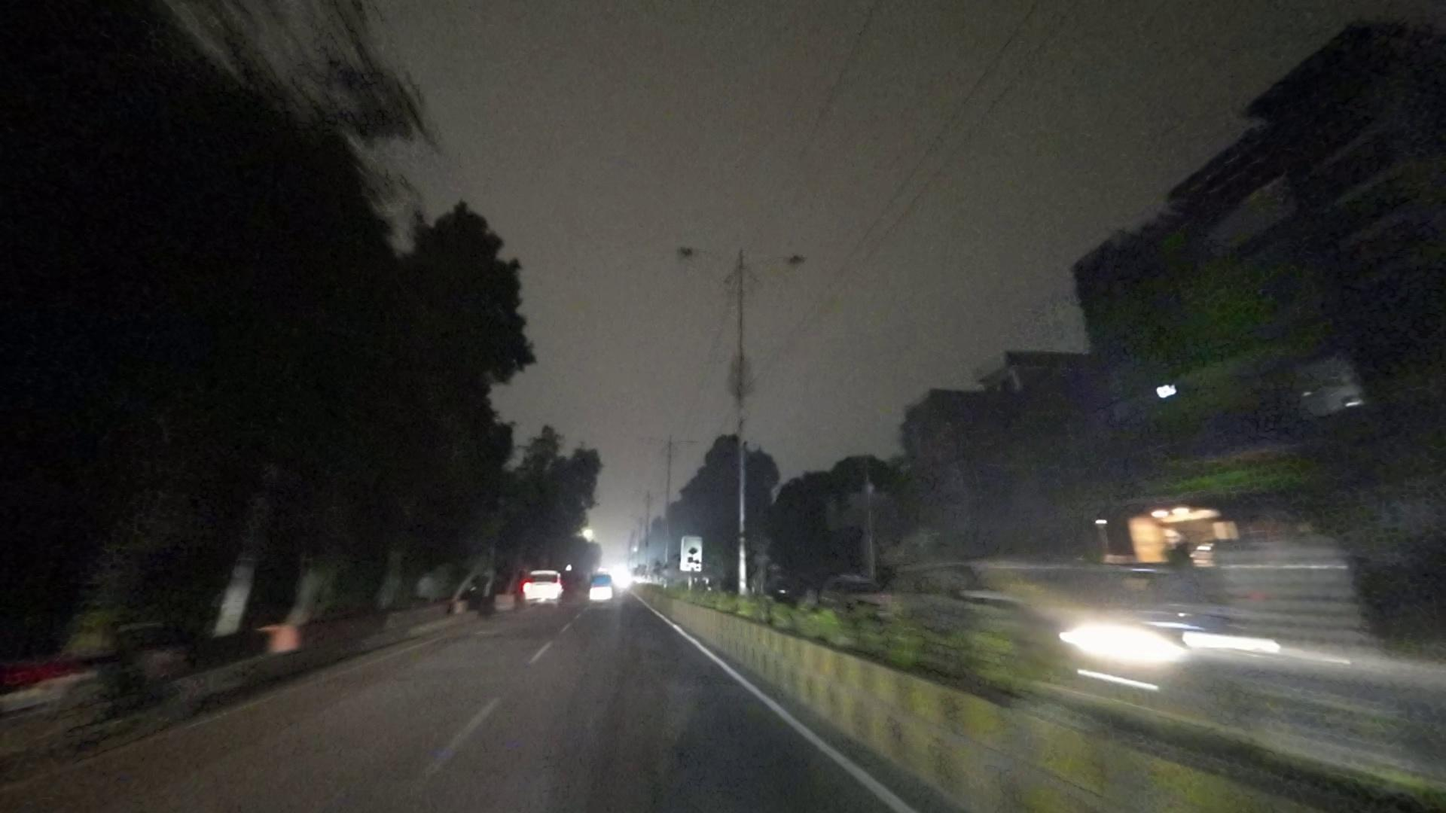streetlight: (677, 243, 737, 264), (745, 250, 811, 269)
